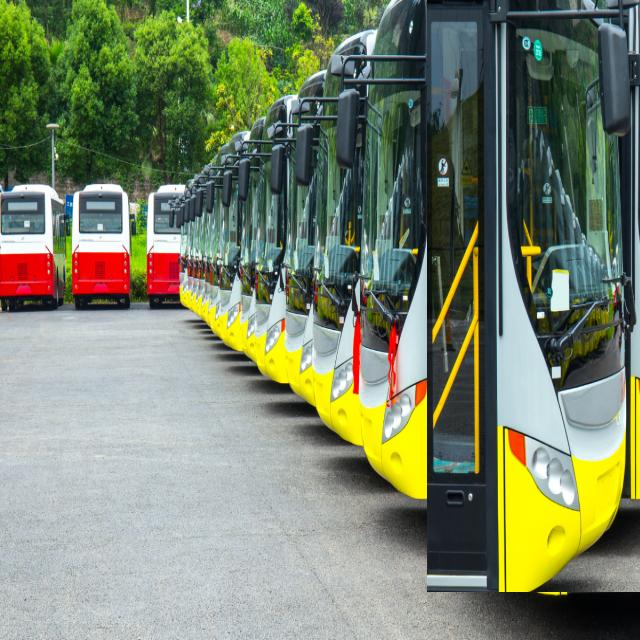bus: (427, 0, 640, 592), (336, 0, 445, 498), (0, 184, 65, 311), (71, 182, 135, 309)
